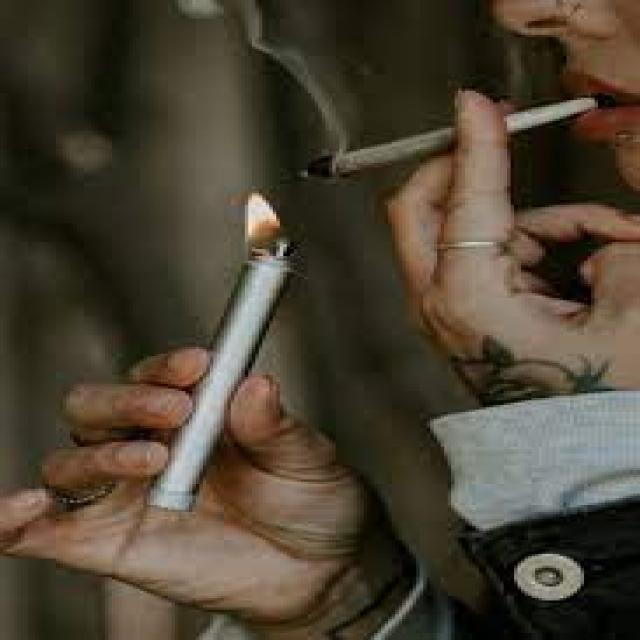fire: (243, 191, 282, 248)
